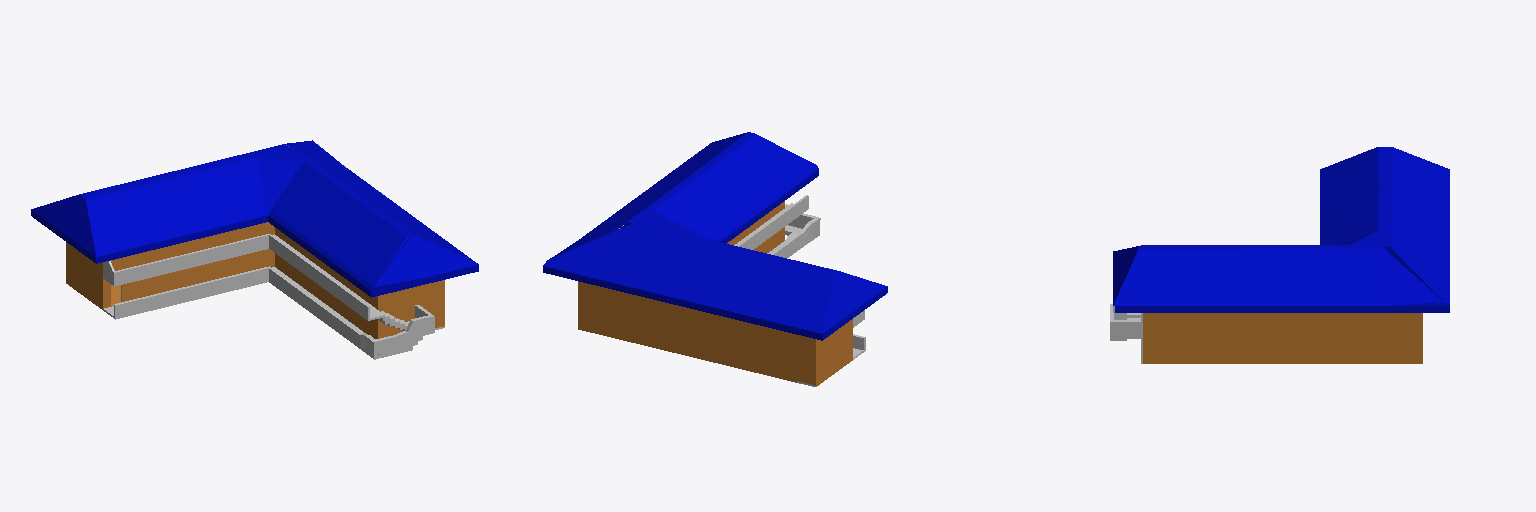
File: sekolah1.obj
3 renders of one model, left to right at view 1: azimuth 30°, elevation 25°; view 2: azimuth 150°, elevation 25°; view 3: azimuth 270°, elevation 25°, orthographic.
Parts seen in each view (by area): view 1: PM3D_Cube3D1; view 2: PM3D_Cube3D1; view 3: PM3D_Cube3D1.
Part boxes in pixels (x1,y1,x2,y2): PM3D_Cube3D1: (31, 140, 478, 359); PM3D_Cube3D1: (543, 132, 887, 386); PM3D_Cube3D1: (1110, 147, 1449, 363).
Size of the model in its own units: 17.67 by 6.07 by 18.66.